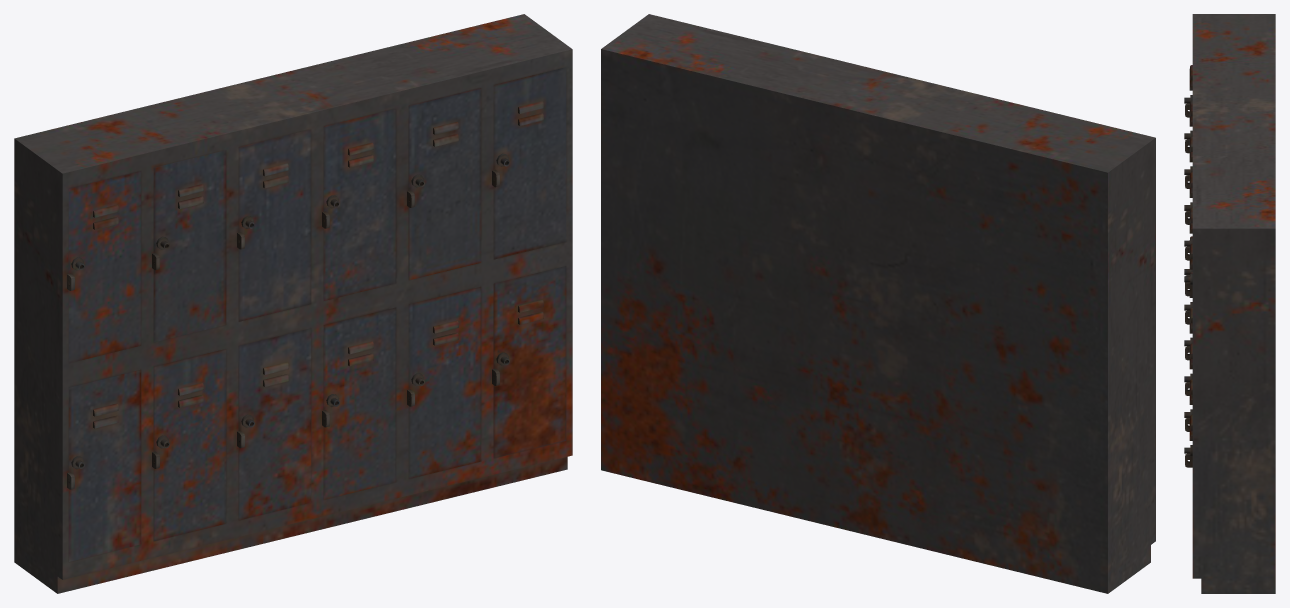
File: LockerSet.FBX
The picture shows the model from 3 angles, left to right: view 1: azimuth 30°, elevation 25°; view 2: azimuth 150°, elevation 25°; view 3: azimuth 270°, elevation 25°; orthographic projection. The views are drawn at different scales.
Visible parts, largest first — view 1: LockerSet; view 2: LockerSet; view 3: LockerSet.
Boxes of the visible parts, x1=… form: LockerSet: x1=14, y1=14, x2=572, y2=593; LockerSet: x1=601, y1=14, x2=1155, y2=593; LockerSet: x1=1184, y1=14, x2=1275, y2=593.
Size of the model in its own units: 250 by 198 by 44.96.
